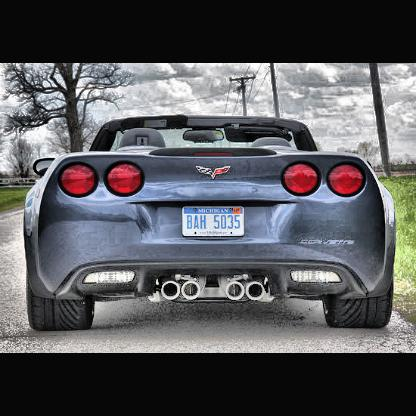Chevrolet Corvette Convertible 2012: (24, 115, 396, 330)
